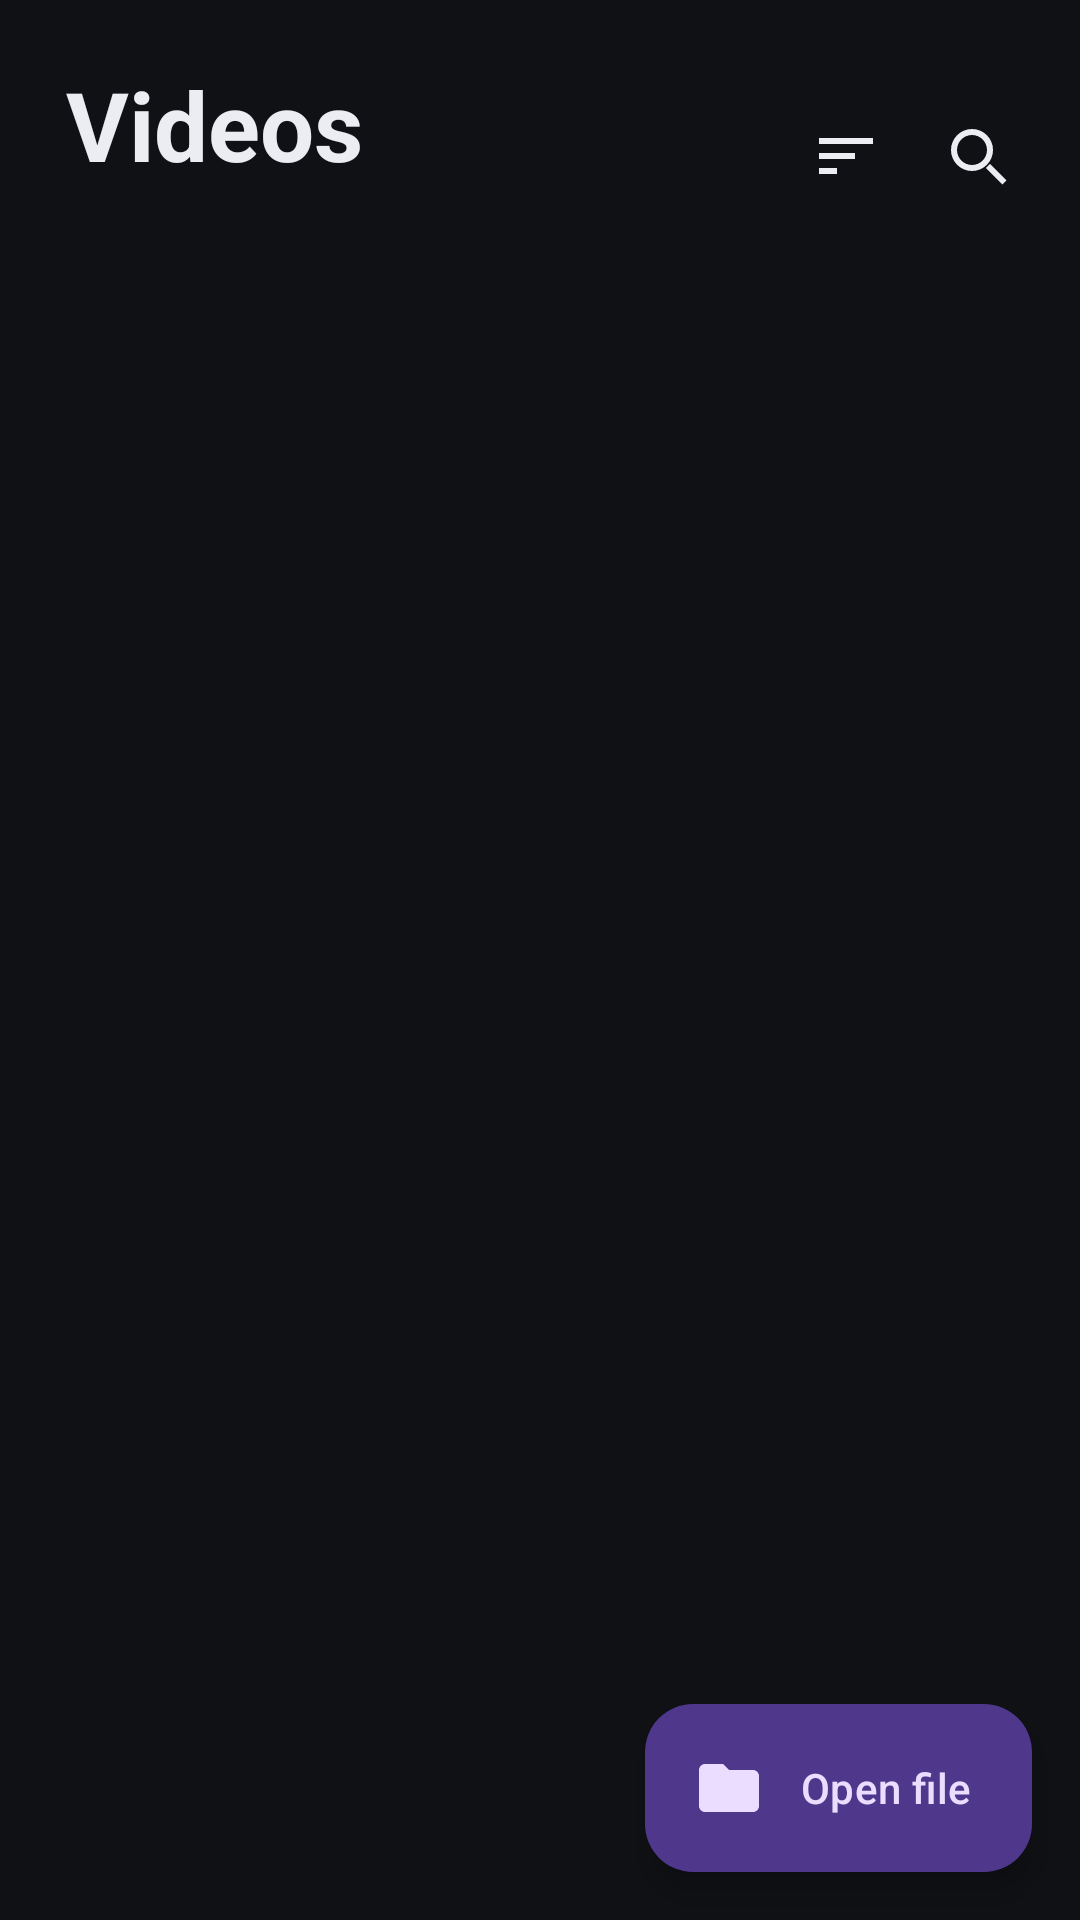

Where icons sit on this 1080 × 1920 app screen, as (x1, y1, x2, y2):
Search: (951, 129, 1007, 185)
Sort: (819, 138, 873, 174)
